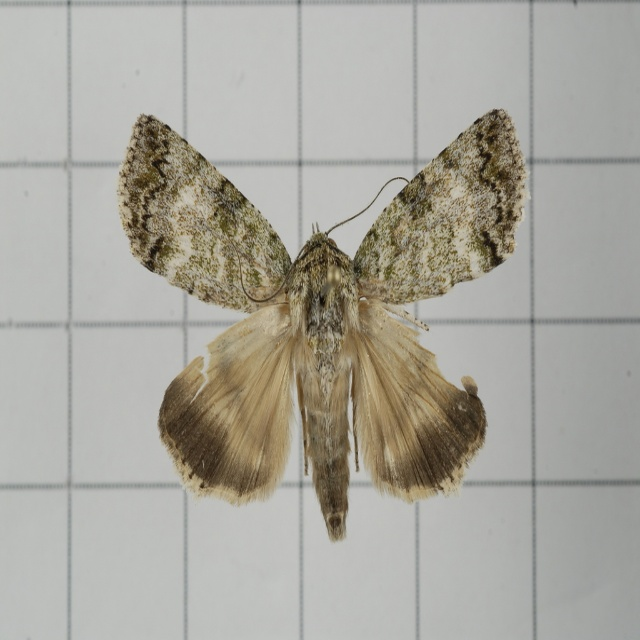Butterfly: (119, 121, 521, 528)
